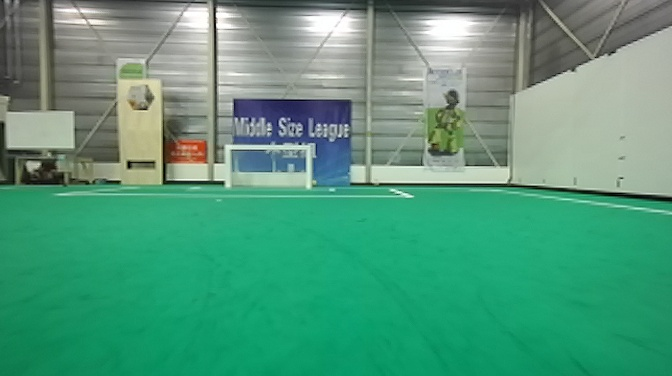goalpost: (297, 137, 322, 200), (220, 143, 242, 194)
